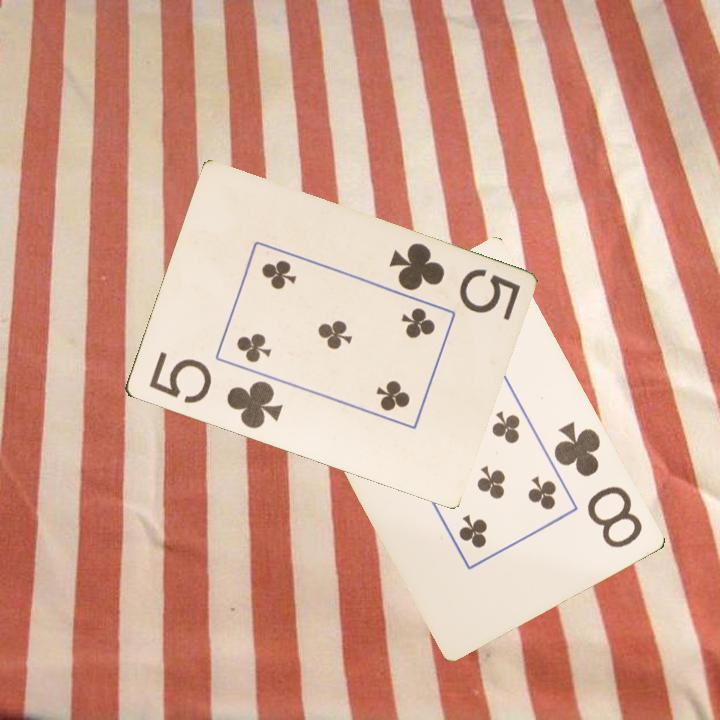5c: (145, 348, 286, 432), (385, 239, 523, 324)
8c: (550, 417, 647, 552)
